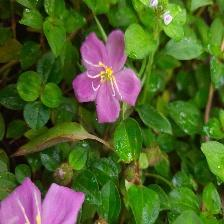malabar melastome: (70, 30, 142, 126)
